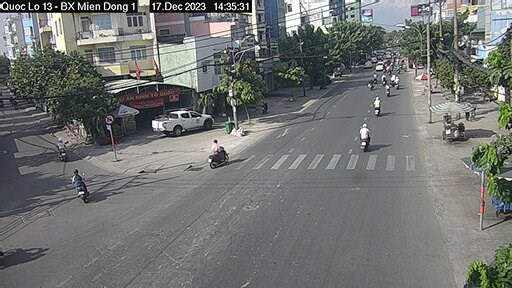car: (151, 108, 217, 139)
motorbike: (70, 169, 92, 201), (206, 140, 232, 166), (358, 124, 371, 152), (369, 94, 383, 116)
